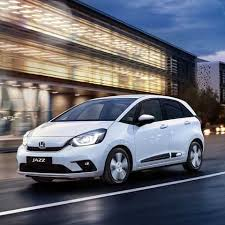Honda: (15, 92, 206, 184)
